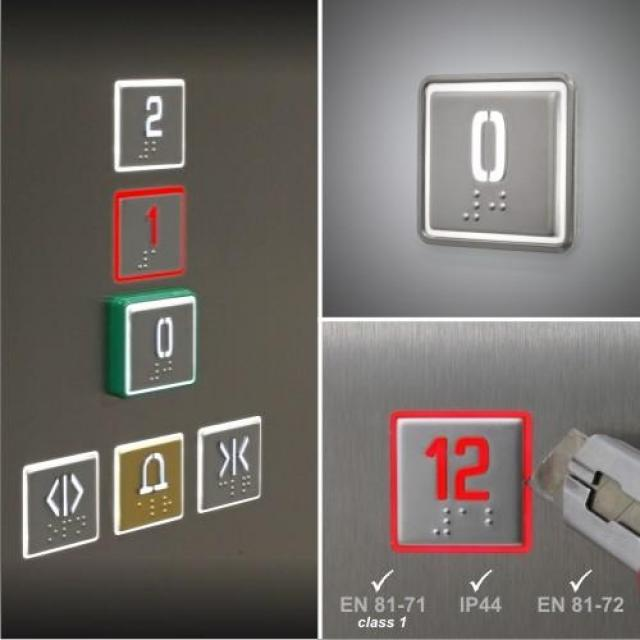0: (408, 67, 578, 256), (105, 288, 200, 398)
1: (105, 180, 193, 286)
12: (386, 406, 532, 557)
2: (107, 74, 187, 173)
alarm: (108, 426, 186, 538)
close: (191, 410, 265, 516)
open: (14, 446, 101, 560)
